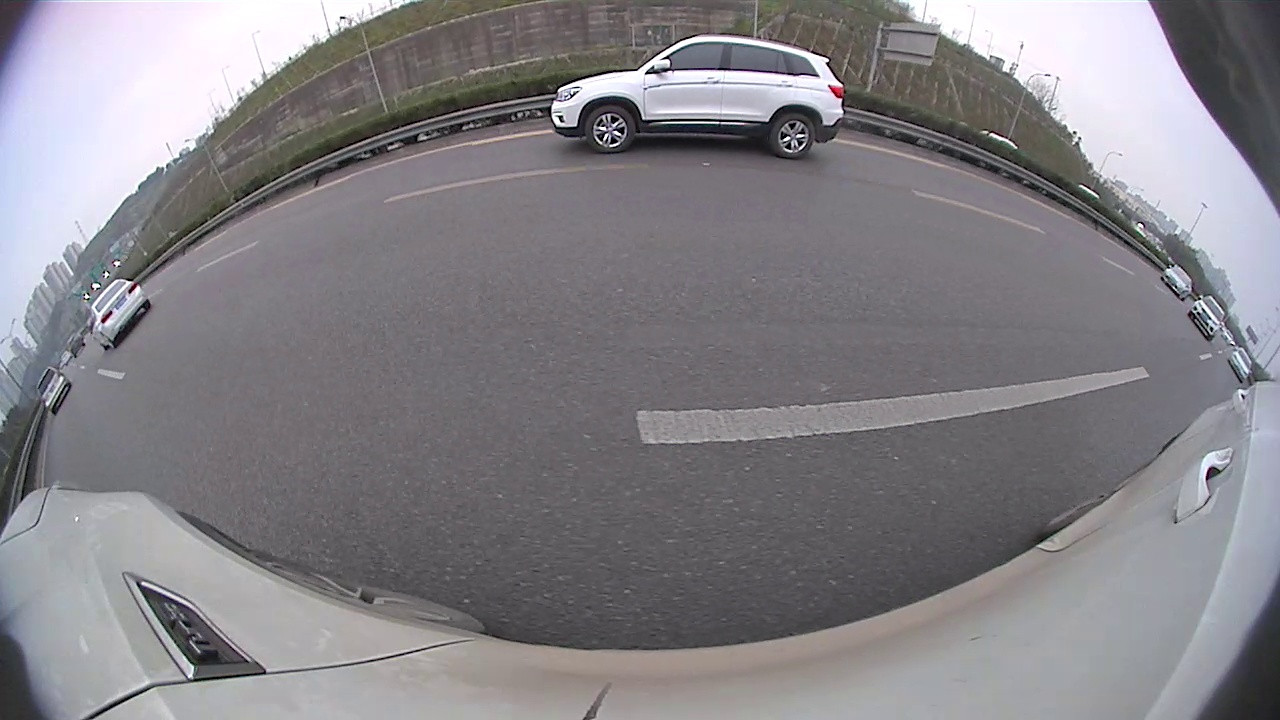car: (1, 157, 431, 470), (564, 102, 822, 270), (820, 120, 1050, 287), (1203, 333, 1279, 409), (526, 159, 572, 199)
front: (390, 209, 426, 270), (1223, 364, 1258, 410)
rear: (121, 310, 234, 433), (877, 213, 919, 268)
